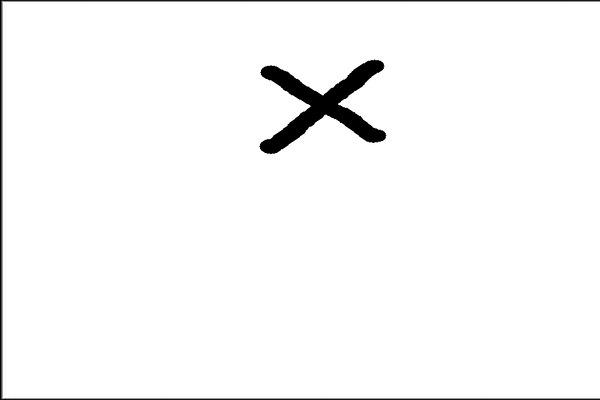X: (247, 41, 426, 163)
